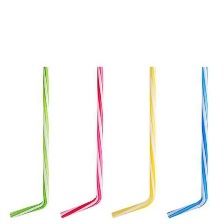drinking_straw: (55, 63, 109, 221), (161, 63, 215, 221), (108, 63, 160, 221), (5, 63, 52, 221)
